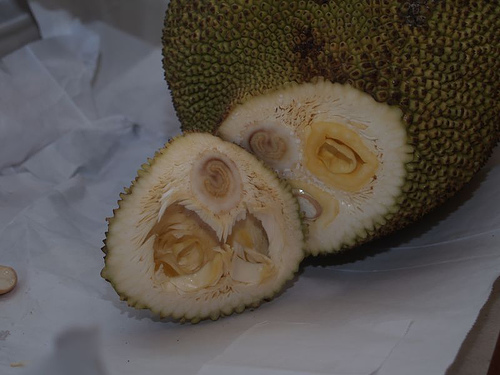jackfruit: (160, 0, 499, 267), (102, 132, 306, 323)
